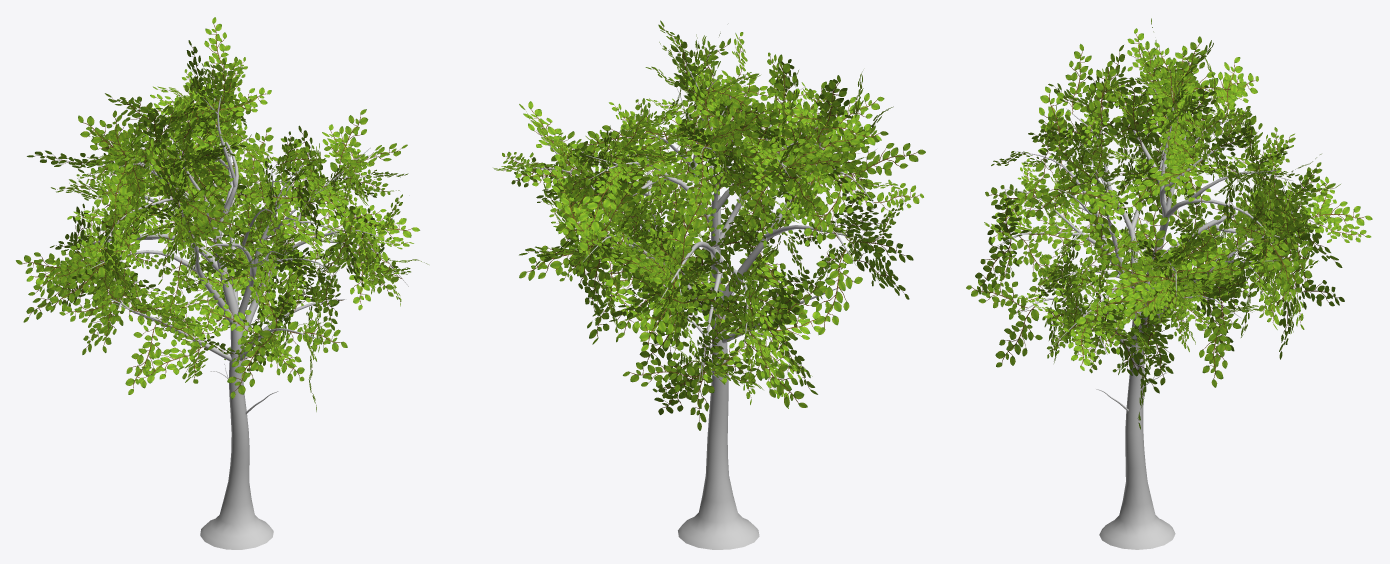
File: Tree2.fbx
The picture shows the model from 3 angles, left to right: view 1: azimuth 30°, elevation 25°; view 2: azimuth 150°, elevation 25°; view 3: azimuth 270°, elevation 25°; orthographic projection. The views are drawn at different scales.
Parts seen in each view (by area): view 1: Tree2_LOD0; view 2: Tree2_LOD0; view 3: Tree2_LOD0.
Boxes of the visible parts, x1,y1,x2,y2 form: Tree2_LOD0: (16,17,428,549); Tree2_LOD0: (493,20,925,549); Tree2_LOD0: (966,18,1372,549).
Size of the model in its own units: 436 by 403 by 538.
